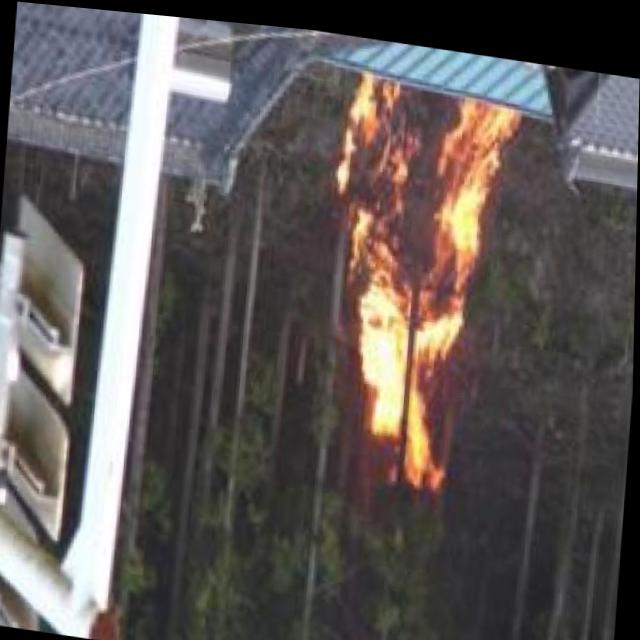Fire: (319, 65, 512, 478)
